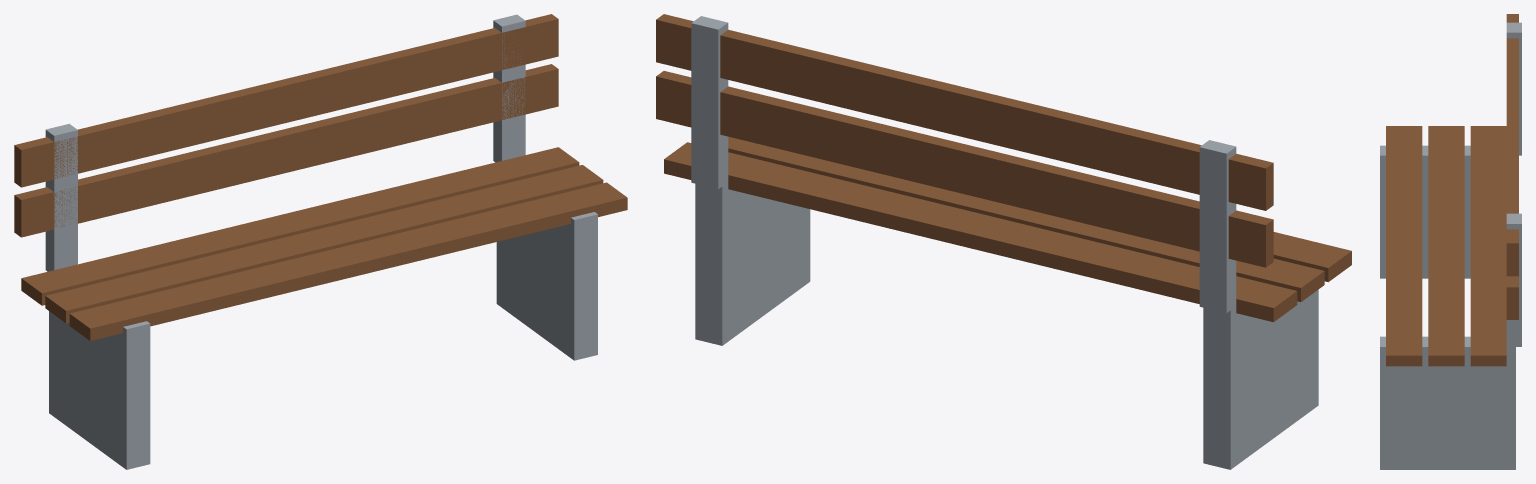
Rendered from Bench.glb.
3 views of the same model, side by side, from view 1: azimuth 30°, elevation 25°; view 2: azimuth 150°, elevation 25°; view 3: azimuth 270°, elevation 25° (orthographic). The views are drawn at different scales.
Parts seen in each view (by area): view 1: Bench_Wood, Bench_Metal; view 2: Bench_Wood, Bench_Metal; view 3: Bench_Wood, Bench_Metal.
Boxes of the visible parts, <box> form: Bench_Wood: <box>14,14,627,340</box>; Bench_Metal: <box>45,14,597,469</box>; Bench_Wood: <box>656,14,1351,322</box>; Bench_Metal: <box>691,16,1318,469</box>; Bench_Wood: <box>1386,14,1518,366</box>; Bench_Metal: <box>1380,22,1521,469</box>.
Size of the model in its own units: 1.8 by 0.9 by 0.47.
